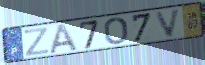7: (131, 12, 153, 44), (79, 19, 100, 50)
A: (48, 22, 80, 56)
O: (103, 16, 129, 46)
V: (154, 7, 183, 39)
Z: (23, 26, 50, 58)
